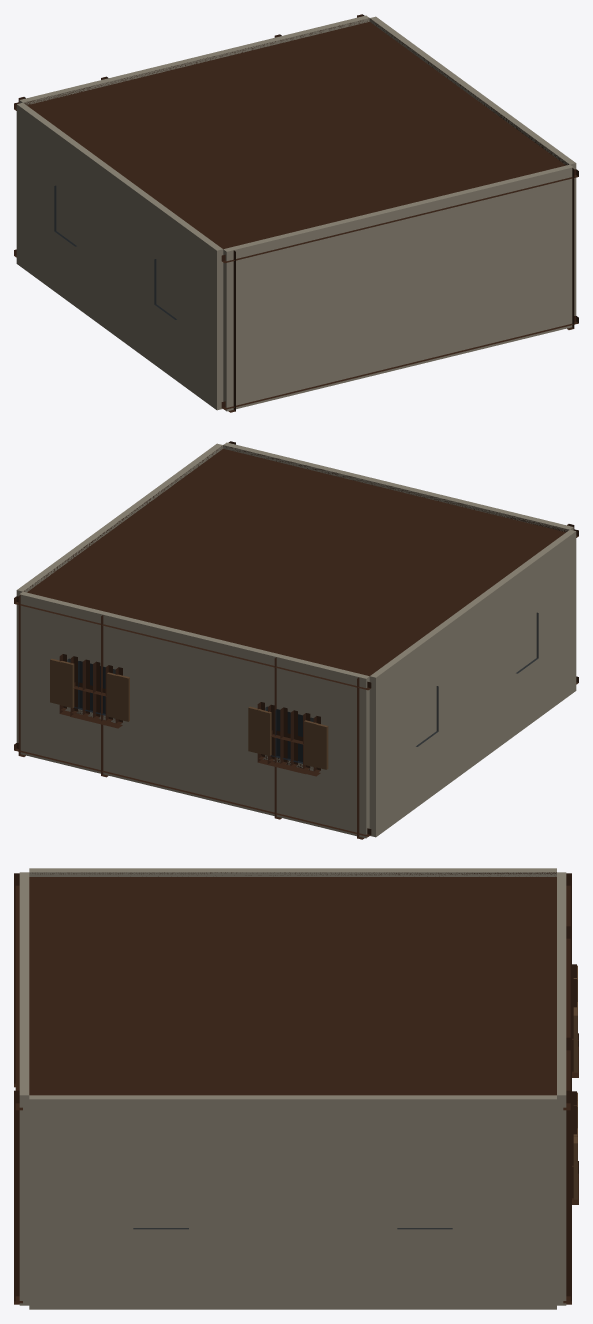
Rendered from GalakasMidCity_UPR_W05D05_PlasterOverhang_01.obj.
3 views of the same model, one above another, from view 1: azimuth 30°, elevation 25°; view 2: azimuth 150°, elevation 25°; view 3: azimuth 270°, elevation 25° (orthographic). The views are drawn at different scales.
Visible parts, largest first — view 1: upper_ceiling_cap, upper_back_wall, upper_left_wall, upper_front_wall, upper_right_wall, upper_back_course_18, upper_back_course_422; view 2: upper_ceiling_cap, upper_front_wall, upper_left_wall, upper_back_wall, upper_right_wall, upper_front_course_422, upper_front_course_18, upper_front_window_1_shutter_l, upper_front_window_1_shutter_r, upper_upper_front_window_0_shutter_l, upper_upper_front_window_0_glass, upper_front_window_0_glass (+5 smaller); view 3: upper_ceiling_cap, upper_right_wall, upper_back_wall, upper_left_wall, upper_front_wall, upper_front_post_4_9, upper_back_post_4_9, upper_back_course_422, upper_front_course_422.
Part boxes in pixels (x1=…): upper_ceiling_cap: x1=24, y1=18, x2=568, y2=249; upper_back_wall: x1=223, y1=164, x2=573, y2=411; upper_left_wall: x1=16, y1=102, x2=223, y2=410; upper_front_wall: x1=19, y1=15, x2=369, y2=105; upper_right_wall: x1=369, y1=16, x2=576, y2=315; upper_back_course_18: x1=221, y1=316, x2=578, y2=409; upper_back_course_422: x1=221, y1=169, x2=578, y2=263; upper_ceiling_cap: x1=24, y1=445, x2=568, y2=676; upper_front_wall: x1=19, y1=591, x2=369, y2=838; upper_left_wall: x1=369, y1=529, x2=576, y2=837; upper_back_wall: x1=223, y1=442, x2=573, y2=531; upper_right_wall: x1=16, y1=443, x2=223, y2=742; upper_front_course_422: x1=14, y1=596, x2=371, y2=690; upper_front_course_18: x1=14, y1=743, x2=371, y2=836; upper_front_window_1_shutter_l: x1=116, y1=674, x2=129, y2=721; upper_front_window_1_shutter_r: x1=61, y1=661, x2=74, y2=708; upper_upper_front_window_0_shutter_l: x1=315, y1=723, x2=328, y2=769; upper_upper_front_window_0_glass: x1=275, y1=709, x2=313, y2=763; upper_front_window_0_glass: x1=265, y1=706, x2=302, y2=763; upper_ceiling_cap: x1=29, y1=872, x2=556, y2=1095; upper_right_wall: x1=29, y1=1095, x2=556, y2=1309; upper_back_wall: x1=19, y1=872, x2=29, y2=1305; upper_left_wall: x1=29, y1=868, x2=556, y2=876; upper_front_wall: x1=557, y1=872, x2=566, y2=1305; upper_front_post_4_9: x1=566, y1=1090, x2=571, y2=1304; upper_back_post_4_9: x1=14, y1=1090, x2=19, y2=1304; upper_back_course_422: x1=15, y1=885, x2=22, y2=1110; upper_front_course_422: x1=563, y1=885, x2=570, y2=1110.
Bounding box in the file's own units: 10.48 × 4.4 × 10.71.
